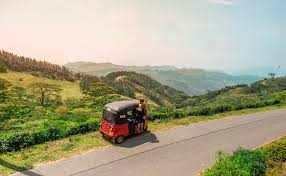tuk tuk: (98, 97, 149, 144)
